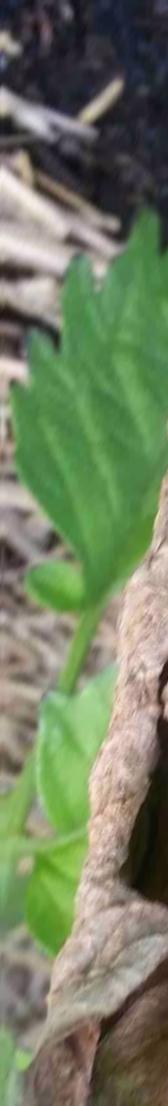Tomato leaf late blight: (0, 175, 168, 1106)
